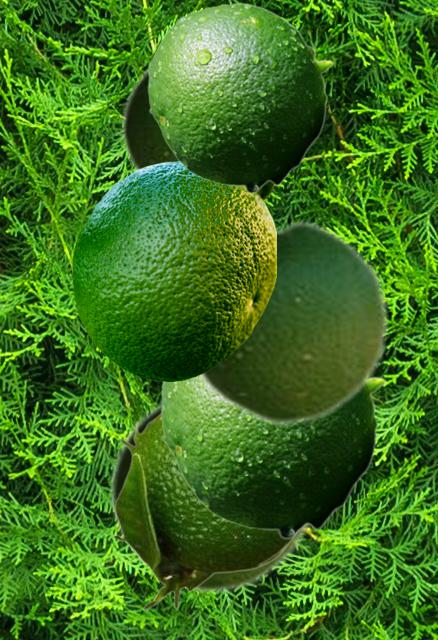dalandan: (72, 161, 275, 380), (197, 217, 389, 427), (108, 397, 310, 595), (160, 374, 385, 539), (111, 413, 297, 610), (147, 2, 333, 193), (120, 66, 176, 171)
